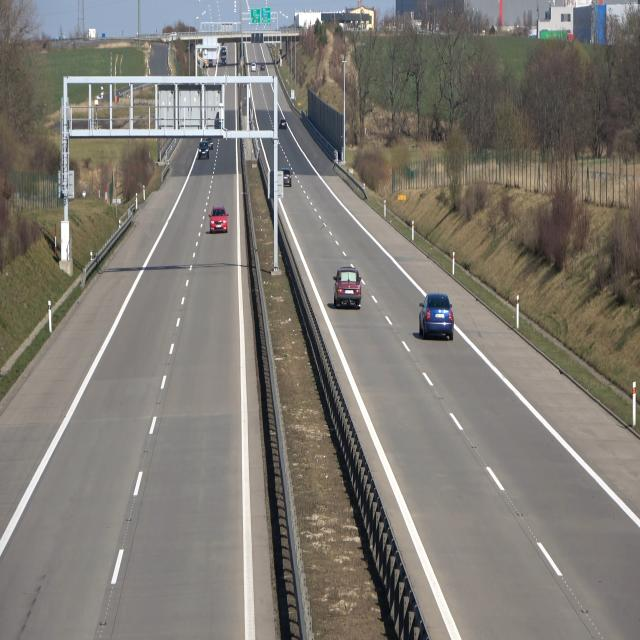Car: (419, 288, 455, 343), (334, 266, 364, 311), (208, 205, 230, 234), (198, 140, 210, 160), (280, 169, 292, 188), (278, 117, 288, 131)
